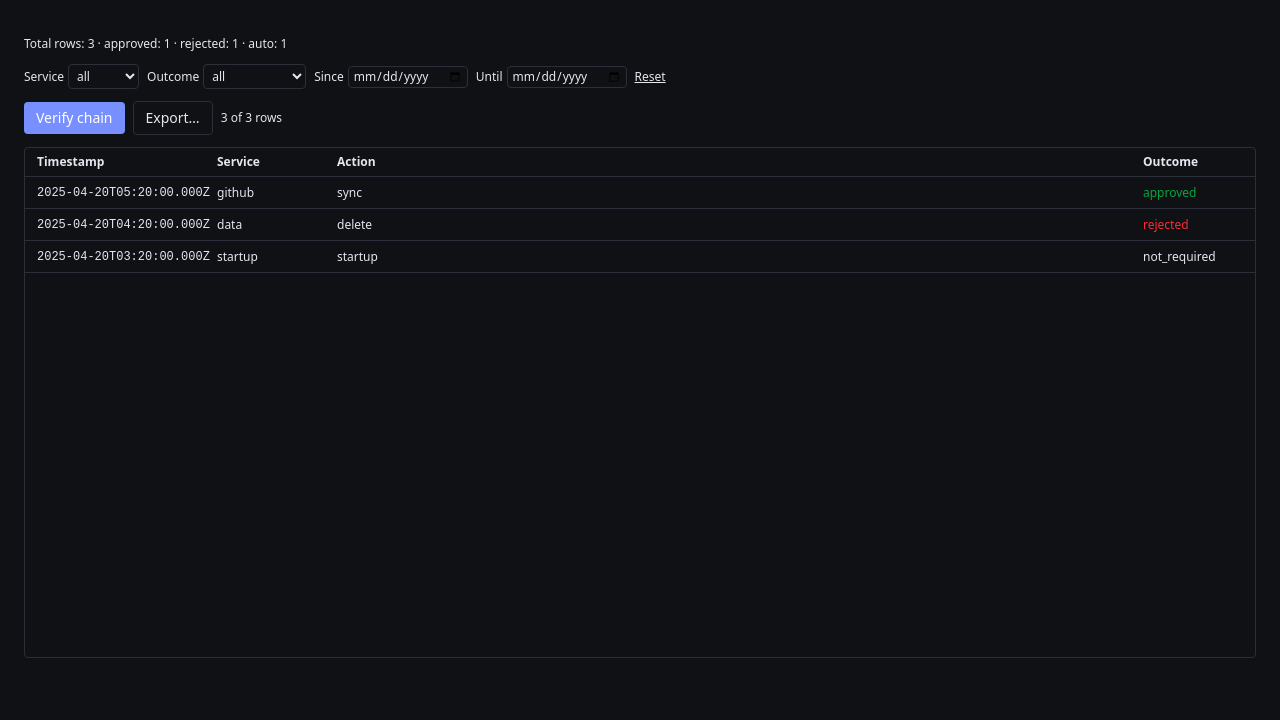
AuditPanel › filters by service via the chip
The width and height of the screenshot is (1280, 720).
Expected: the number of list items with test id "audit-row" is 3, [25,177,1255,209]; [25,209,1255,241]; [25,241,1255,273]
Select "github" in the dropdown named "Service filter" at [104, 76], box [68,64,139,89]
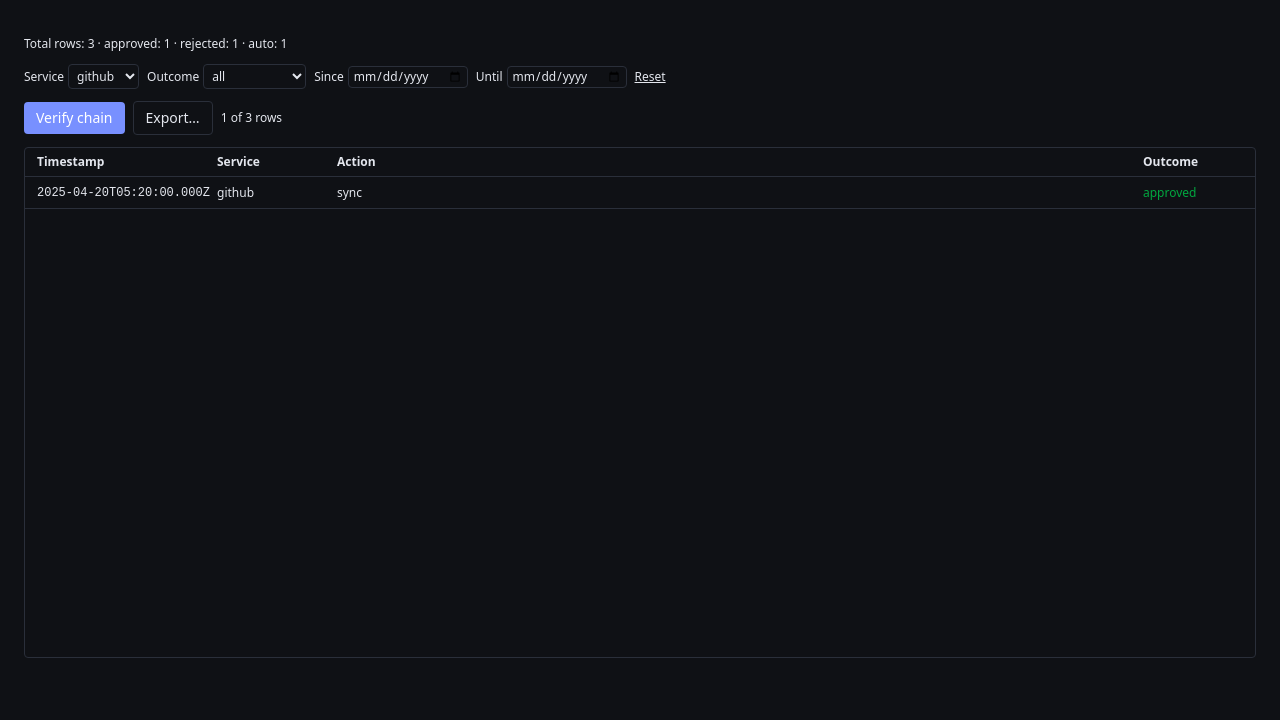
Expected: the number of list items with test id "audit-row" is 1, [25,177,1255,209]
Expected: the text "1 of 3 rows" is shown, [221,110,282,126]
